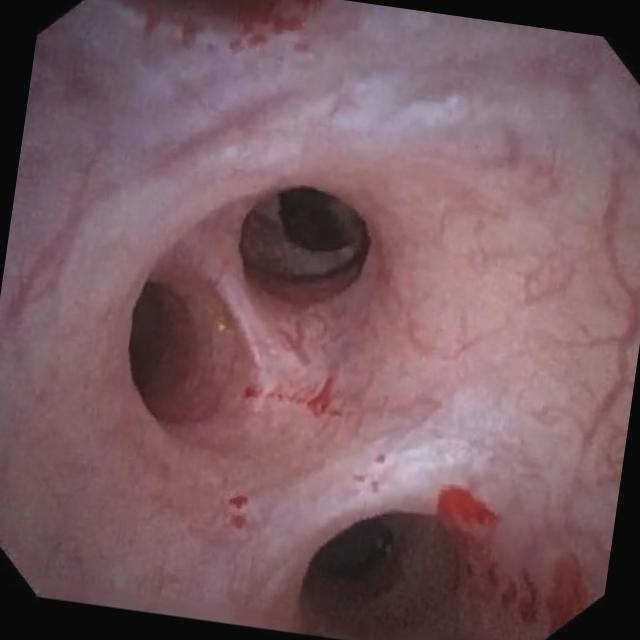stone-new: (273, 188, 366, 256)
